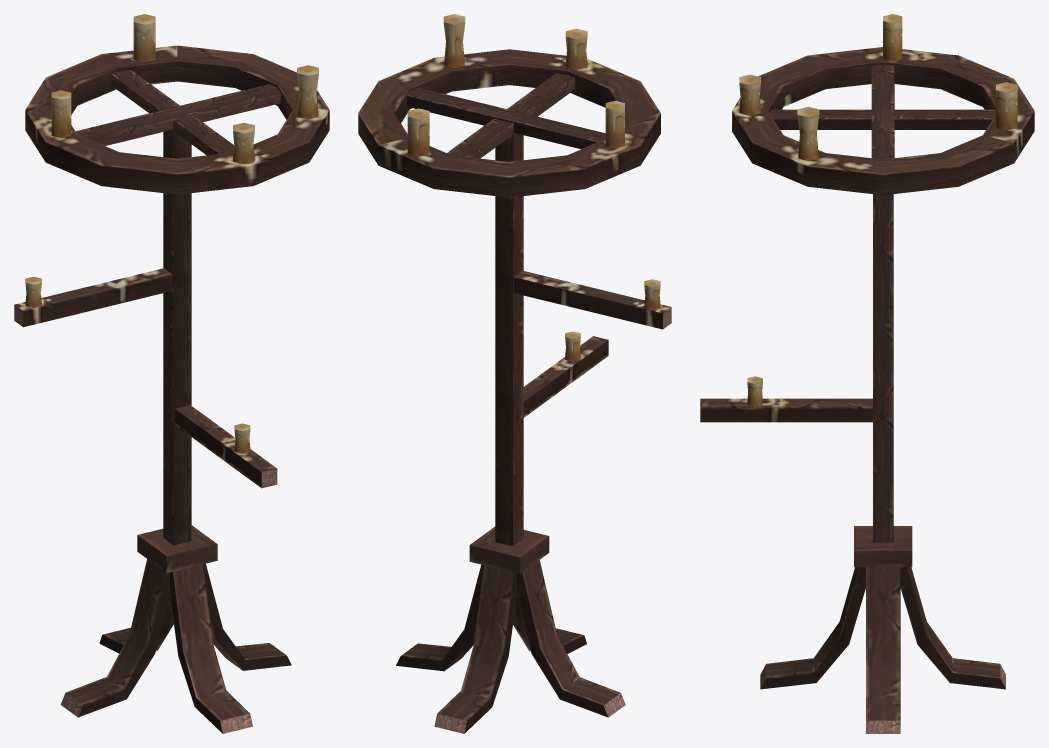
Rendered from Battle06_Light_01.FBX.
3 views of the same model, side by side, from view 1: azimuth 30°, elevation 25°; view 2: azimuth 150°, elevation 25°; view 3: azimuth 270°, elevation 25° (orthographic).
Visible parts, largest first — view 1: Battle06_Light_01; view 2: Battle06_Light_01; view 3: Battle06_Light_01.
Part boxes in pixels (x1,y1,x2,y2): Battle06_Light_01: (14,14,329,733); Battle06_Light_01: (358,14,671,733); Battle06_Light_01: (700,14,1034,733).
Bounding box in the file's own units: 1.55 × 3.15 × 1.55.
